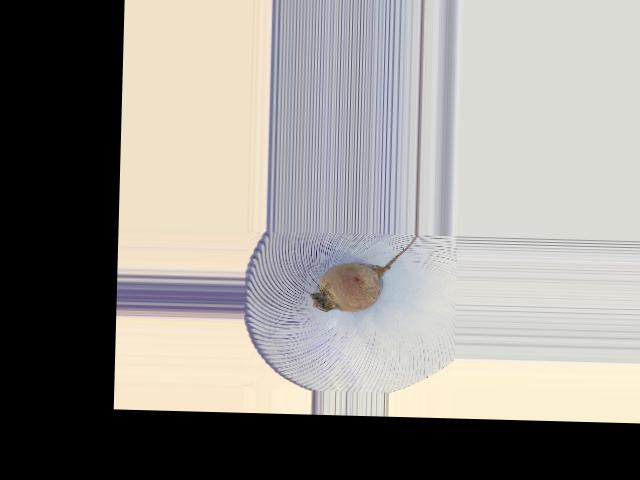beet: (309, 231, 417, 313)
